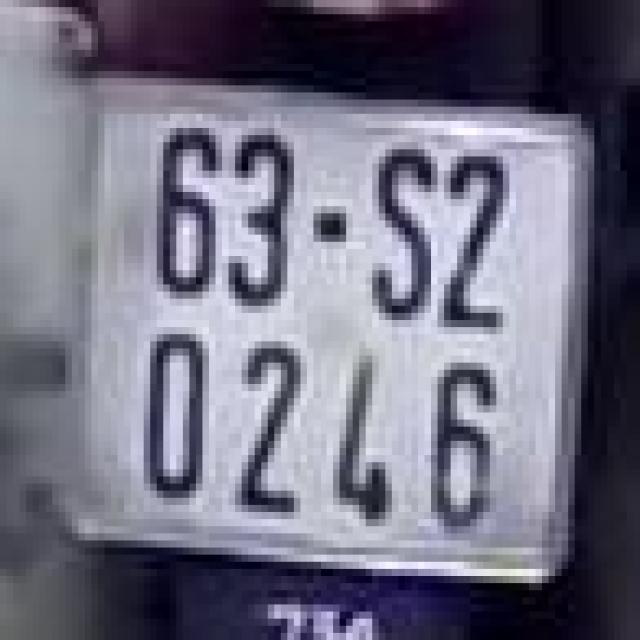0: (134, 320, 219, 512)
2: (437, 132, 516, 338), (232, 327, 310, 533)
3: (219, 118, 297, 316)
4: (326, 338, 398, 537)
6: (424, 356, 516, 554), (144, 114, 222, 313)
S: (359, 124, 438, 323)
